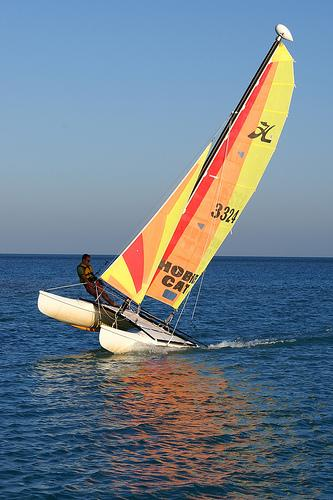Ship: (37, 23, 296, 357)
